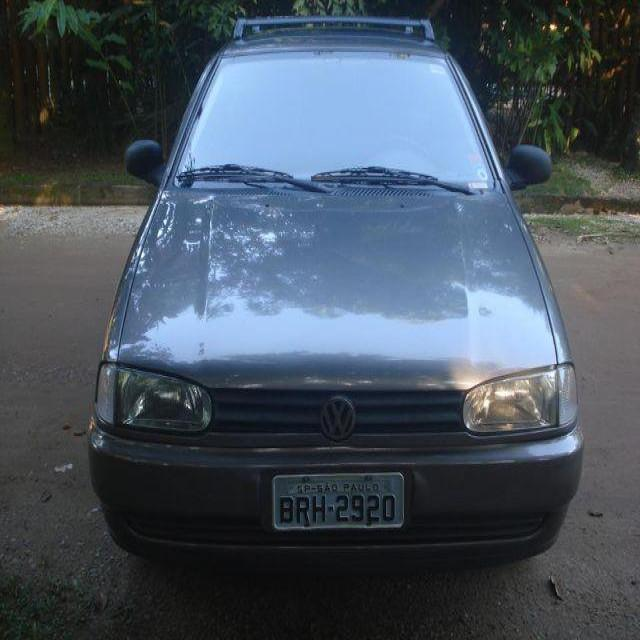Placa: (273, 472, 406, 532)
